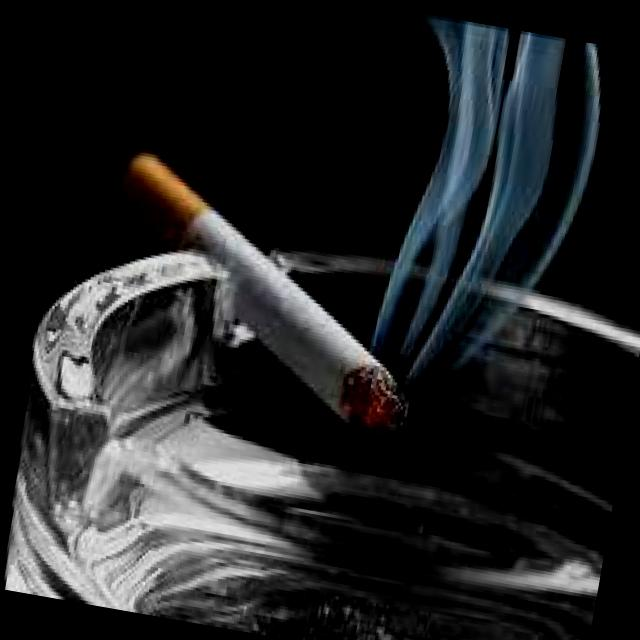cigarette: (75, 142, 447, 455)
